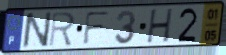2: (176, 7, 199, 44)
3: (114, 9, 138, 46)
F: (82, 10, 113, 47)
H: (145, 7, 175, 45)
N: (21, 10, 54, 51)
R: (48, 11, 77, 49)
